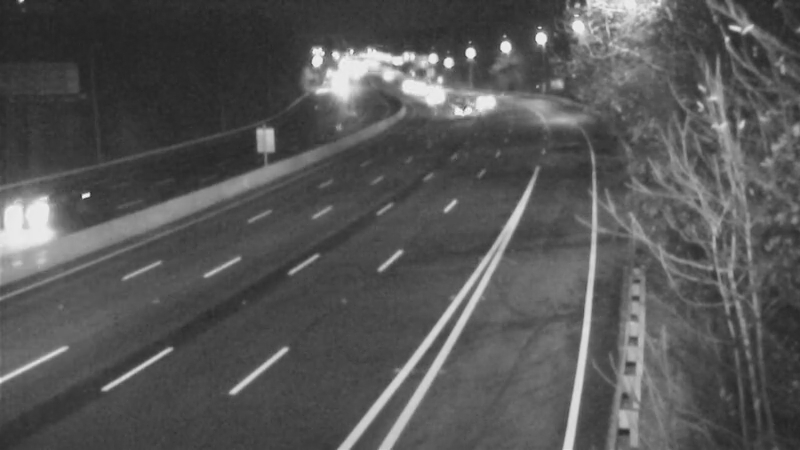vehicle: (1, 167, 75, 247), (390, 63, 440, 113), (410, 65, 460, 115), (412, 72, 462, 122), (460, 76, 510, 126), (441, 84, 491, 134)
